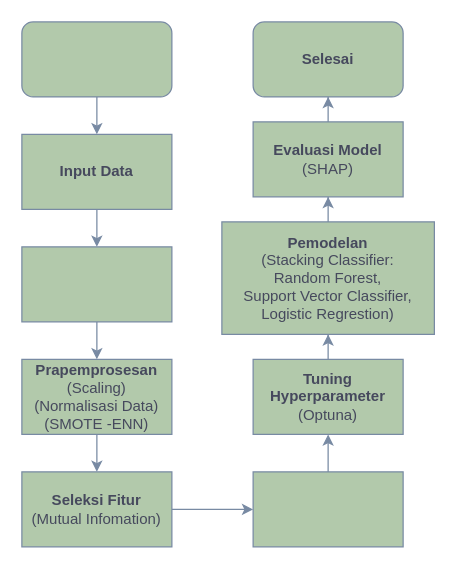
Image size: 456x569. Some labels were removed from this diagram. The centre of each missing label's shape, as x and y in pixels:
"Eksplorasi Data" belongs at (x=96, y=284).
"Mulai" belongs at (x=96, y=59).
"Reduksi Dimensi (UMAP)" belongs at (x=327, y=509).
